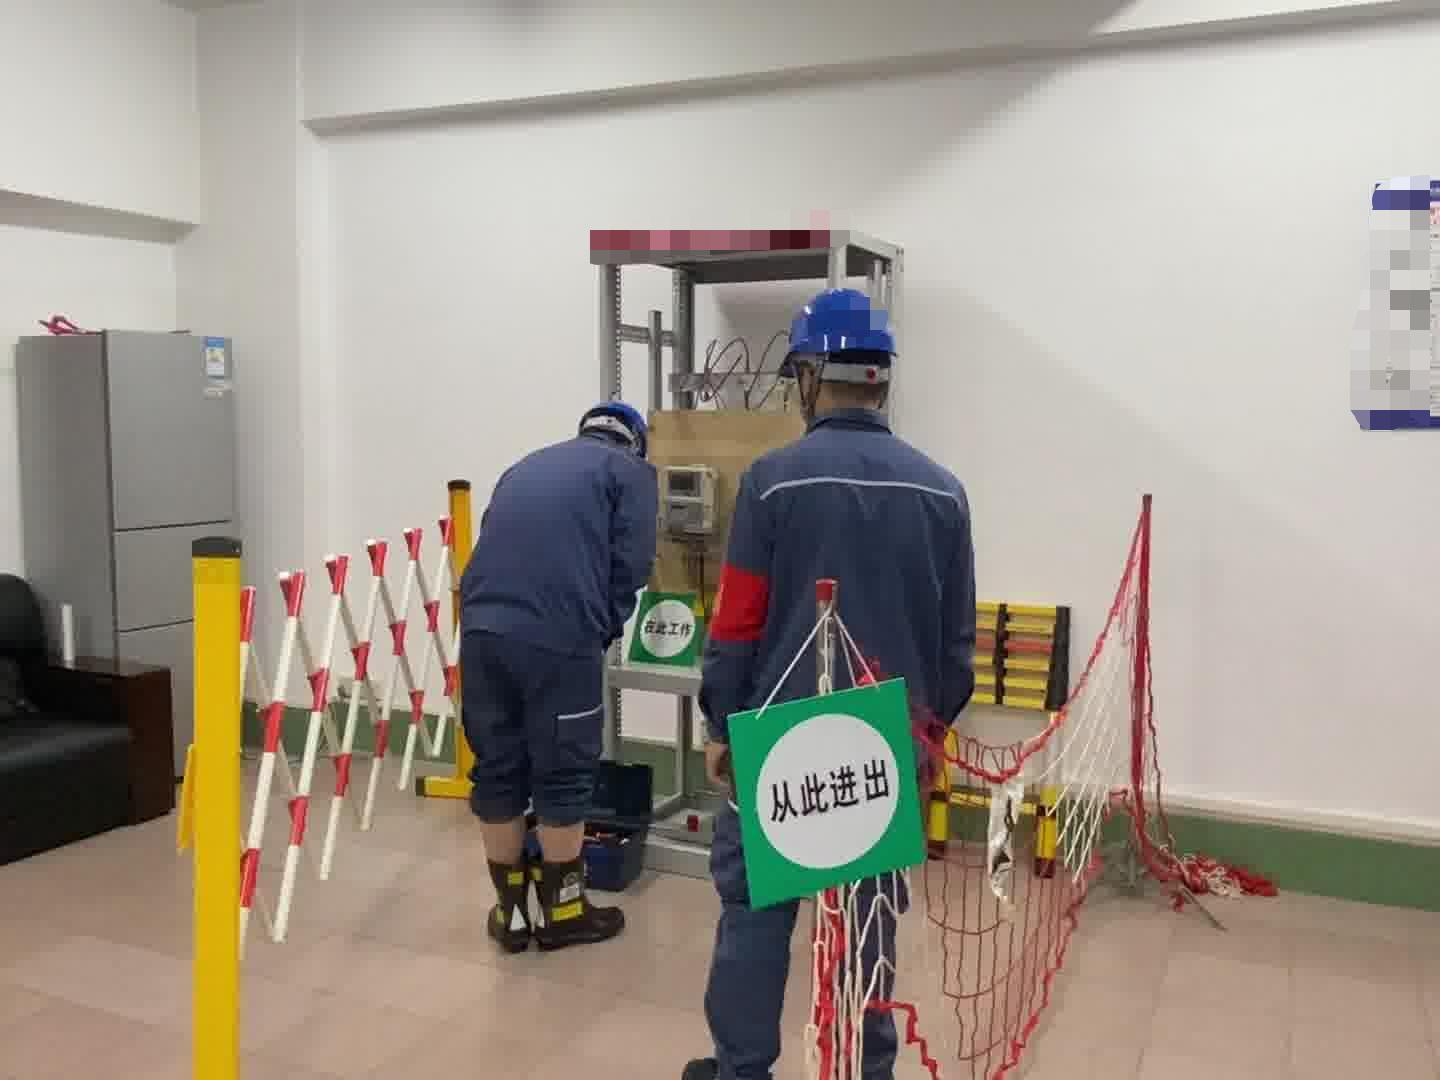halt: (785, 292, 903, 419), (579, 405, 653, 456)
inear: (791, 363, 828, 417)
